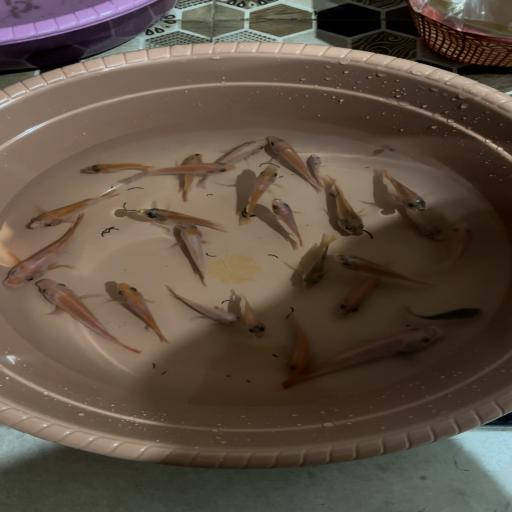nila: (29, 275, 147, 357), (310, 321, 442, 383), (0, 219, 104, 288), (18, 182, 144, 232), (102, 281, 183, 344), (323, 260, 402, 324), (268, 301, 328, 383), (333, 247, 436, 288), (318, 176, 374, 238), (230, 164, 284, 227), (165, 285, 247, 326), (259, 133, 317, 190), (290, 230, 340, 296), (132, 203, 238, 234), (432, 213, 480, 278), (170, 223, 219, 285), (369, 167, 439, 209), (403, 296, 489, 330), (120, 160, 243, 180), (269, 195, 311, 248), (213, 131, 271, 168), (238, 290, 272, 347), (398, 208, 450, 244), (174, 148, 206, 203), (79, 156, 155, 179), (302, 150, 334, 189)
